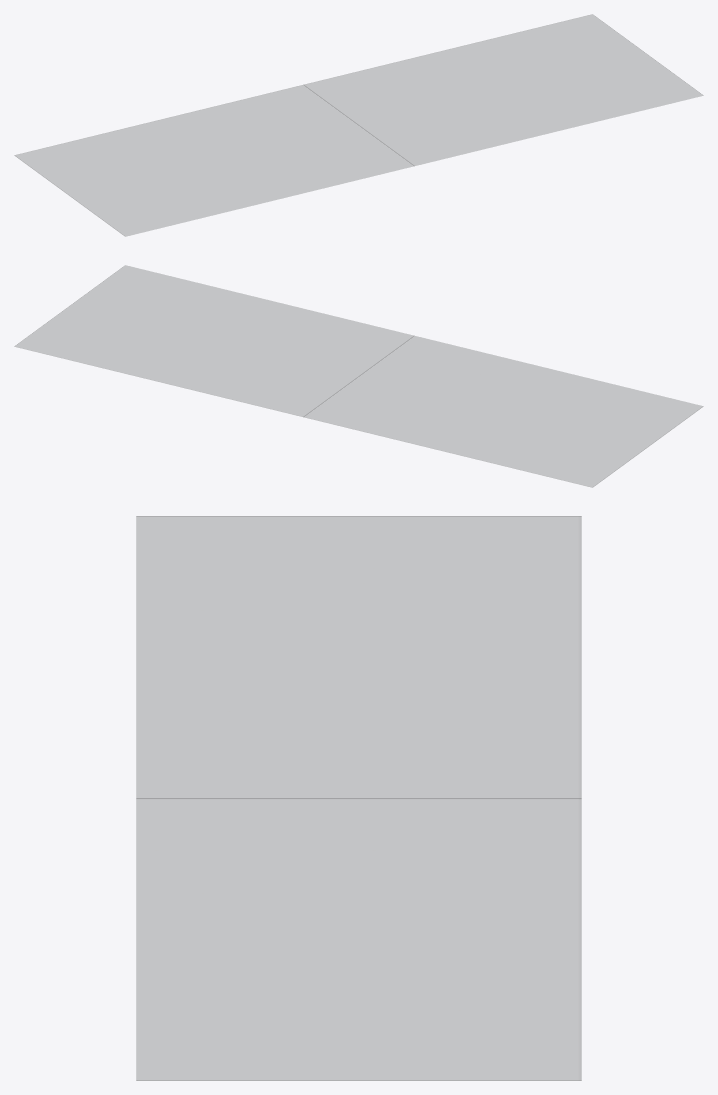
Rendered from Floor_Tinny_04_LP.FBX.
The picture shows the model from 3 angles, top to bottom: view 1: azimuth 30°, elevation 25°; view 2: azimuth 150°, elevation 25°; view 3: azimuth 270°, elevation 25°; orthographic projection. The views are drawn at different scales.
Parts seen in each view (by area): view 1: Floor_Tinny_04_LP; view 2: Floor_Tinny_04_LP; view 3: Floor_Tinny_04_LP.
Part boxes in pixels (bbox=[...]): Floor_Tinny_04_LP: bbox=[14, 14, 703, 236]; Floor_Tinny_04_LP: bbox=[14, 265, 703, 487]; Floor_Tinny_04_LP: bbox=[136, 516, 581, 1080].
Bounding box in the file's own units: 6 × 9.78e-07 × 2.
Materials: 1 (1 with a texture image).
